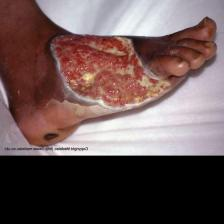Wound: (46, 28, 174, 113)
